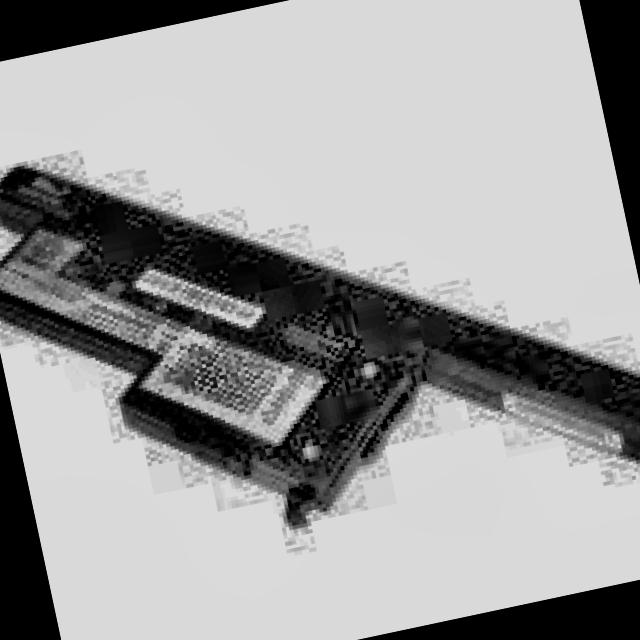Battery: (0, 44, 640, 580)
